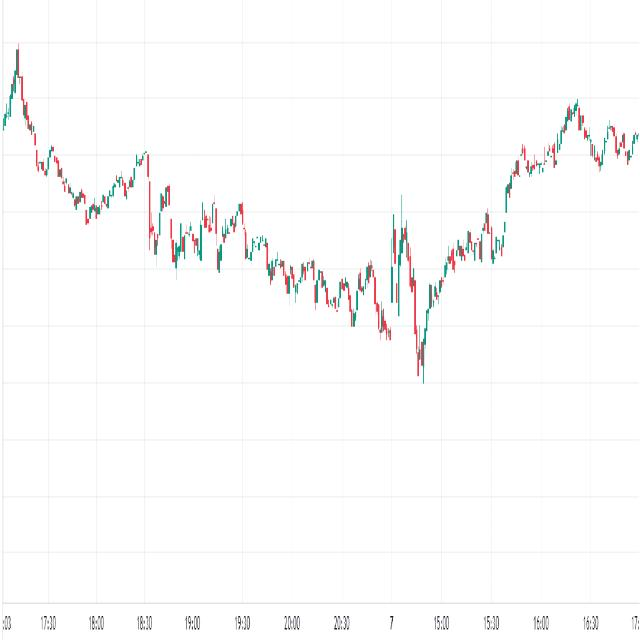Rounding-Bottom: (48, 127, 148, 236)
